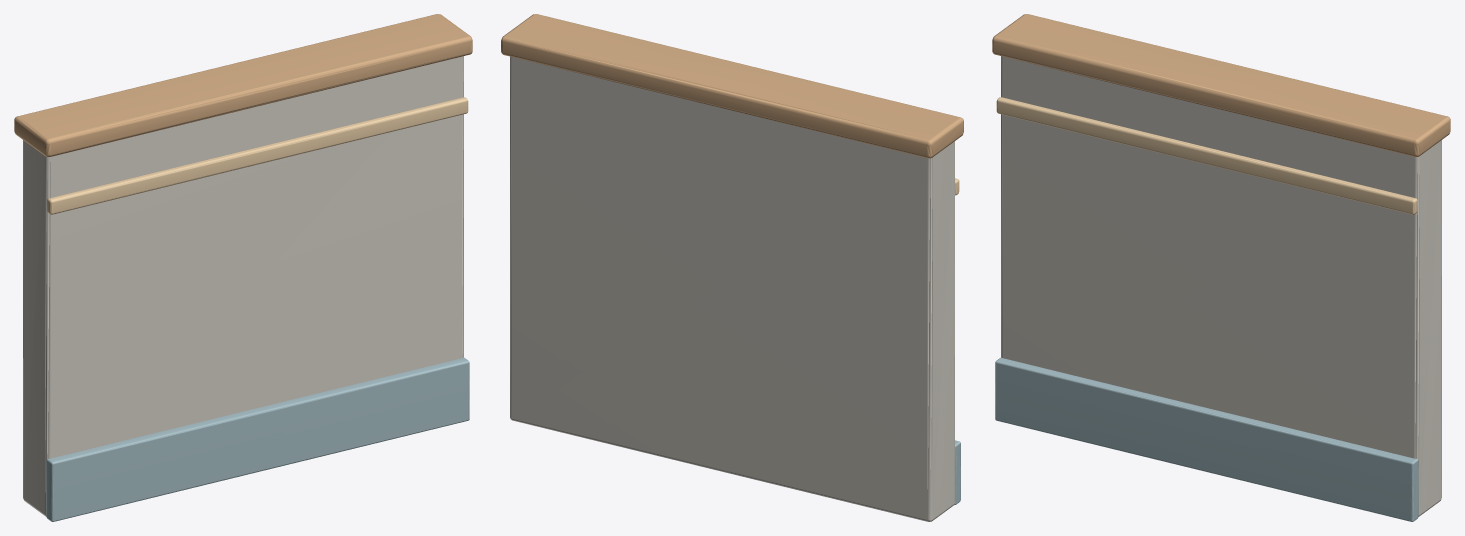
The model's file is WallShort.fbx.
3 views of the same model, side by side, from view 1: azimuth 30°, elevation 25°; view 2: azimuth 150°, elevation 25°; view 3: azimuth 330°, elevation 25° (orthographic).
Parts seen in each view (by area): view 1: WallShort.001; view 2: WallShort.001; view 3: WallShort.001.
Part boxes in pixels (x1,y1,x2,y2): WallShort.001: [14, 14, 472, 521]; WallShort.001: [501, 14, 963, 521]; WallShort.001: [992, 14, 1450, 521].
Size of the model in its own units: 1.94 by 1.66 by 0.275.
